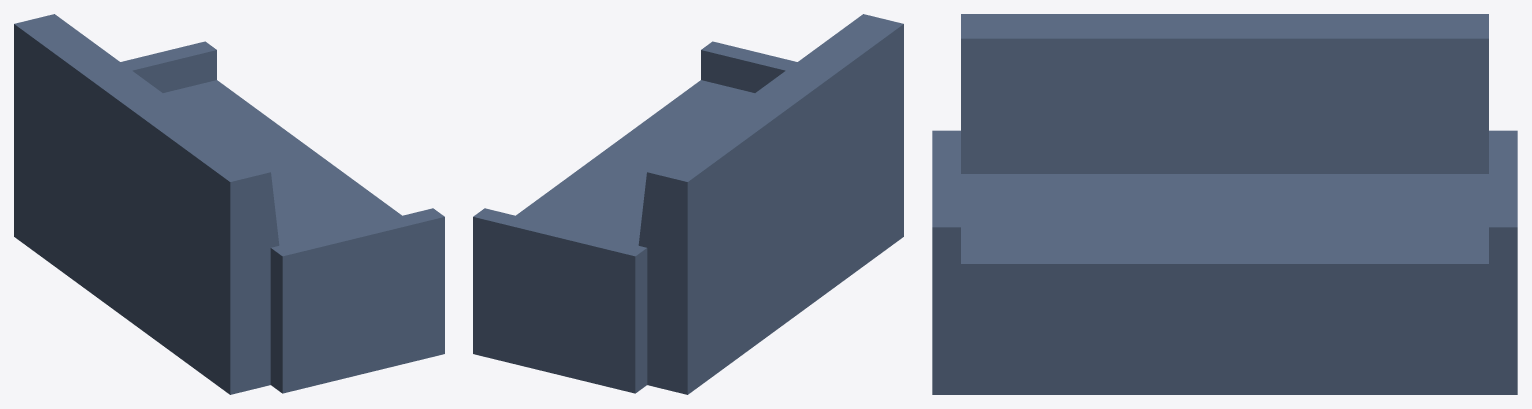
The model's file is couch_empty.fbx.
The picture shows the model from 3 angles, left to right: view 1: azimuth 30°, elevation 25°; view 2: azimuth 150°, elevation 25°; view 3: azimuth 270°, elevation 25°; orthographic projection. The views are drawn at different scales.
Visible parts, largest first — view 1: couch; view 2: couch; view 3: couch.
Part boxes in pixels (bbox=[...]): couch: bbox=[14, 14, 444, 394]; couch: bbox=[473, 14, 903, 394]; couch: bbox=[932, 14, 1517, 394].
Size of the model in its own units: 236 by 115 by 116.
